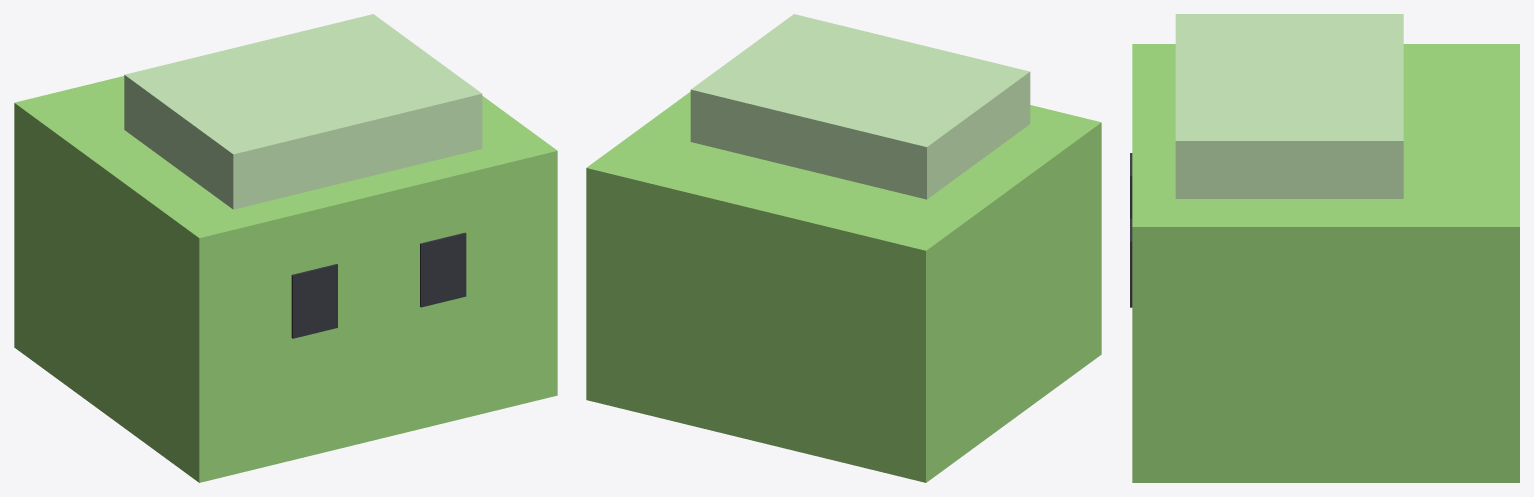
The model's file is slime.gltf.
The picture shows the model from 3 angles, left to right: view 1: azimuth 30°, elevation 25°; view 2: azimuth 150°, elevation 25°; view 3: azimuth 270°, elevation 25°; orthographic projection. The views are drawn at different scales.
Visible parts, largest first — view 1: blob, dome, eyeL, eyeR; view 2: blob, dome; view 3: blob, dome.
Boxes of the visible parts, <box> form: blob: <box>14,76,557,482</box>; dome: <box>124,14,482,209</box>; eyeL: <box>291,264,337,338</box>; eyeR: <box>420,232,466,307</box>; blob: <box>586,92,1101,482</box>; dome: <box>690,14,1030,199</box>; blob: <box>1132,44,1519,482</box>; dome: <box>1175,14,1403,198</box>.
Size of the model in its own units: 0.95 by 0.76 by 0.855.
